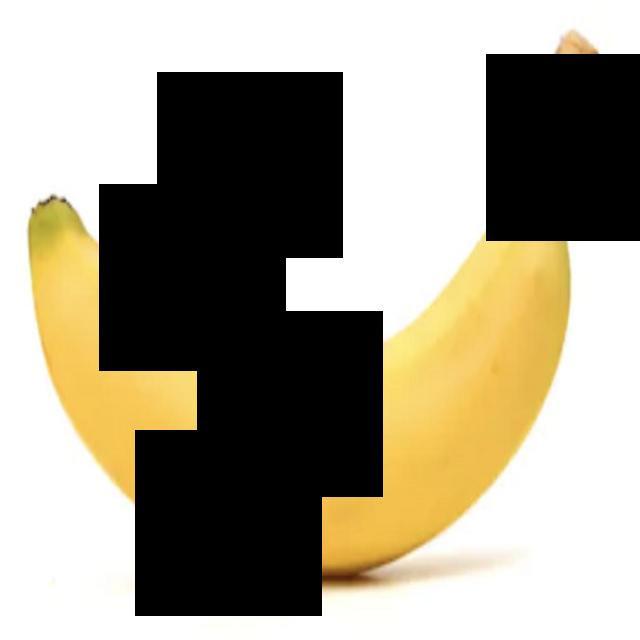banana: (0, 0, 639, 637)
